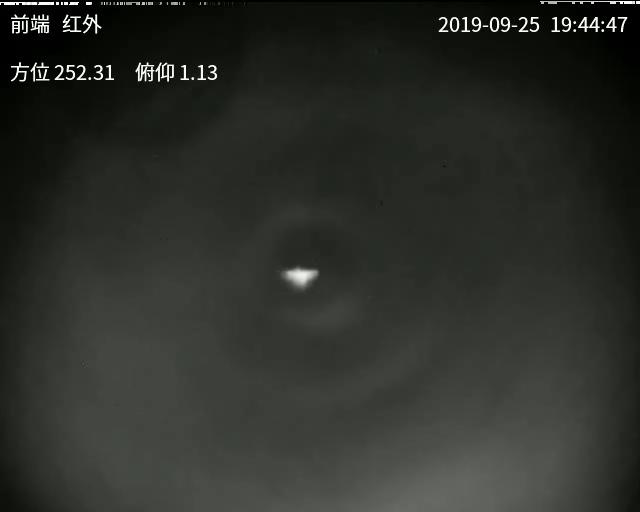uav: (274, 266, 319, 290)
